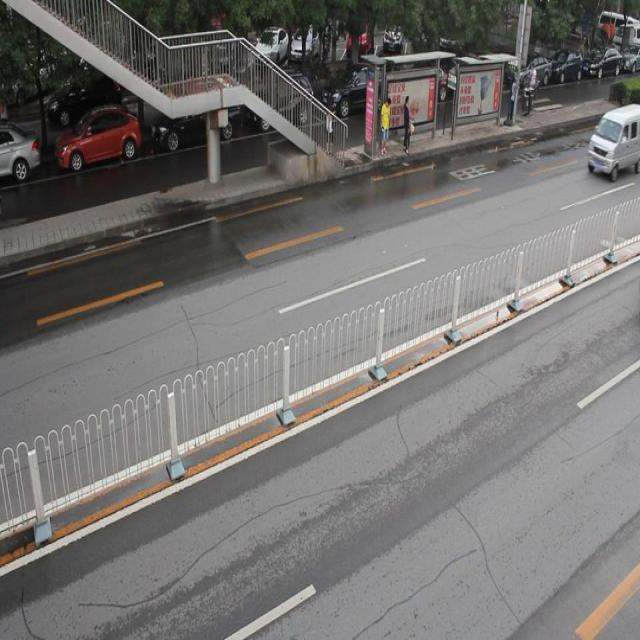car: (54, 103, 142, 172), (150, 94, 240, 149), (247, 72, 313, 132), (321, 65, 388, 119), (1, 125, 41, 183)
truck: (586, 102, 640, 180)
